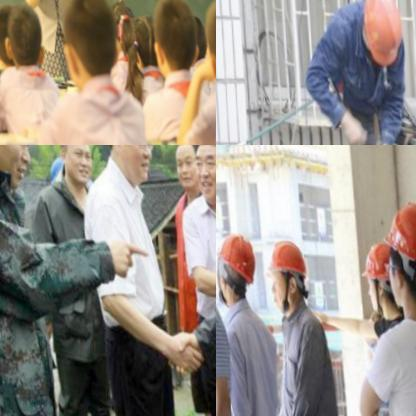head: (56, 0, 117, 83), (143, 0, 199, 76), (0, 0, 42, 65), (125, 7, 155, 66), (102, 0, 131, 45), (0, 1, 21, 60), (203, 0, 216, 84)
helmet: (381, 190, 416, 307), (360, 233, 407, 319), (262, 235, 312, 310), (216, 226, 256, 301), (355, 0, 403, 61)
